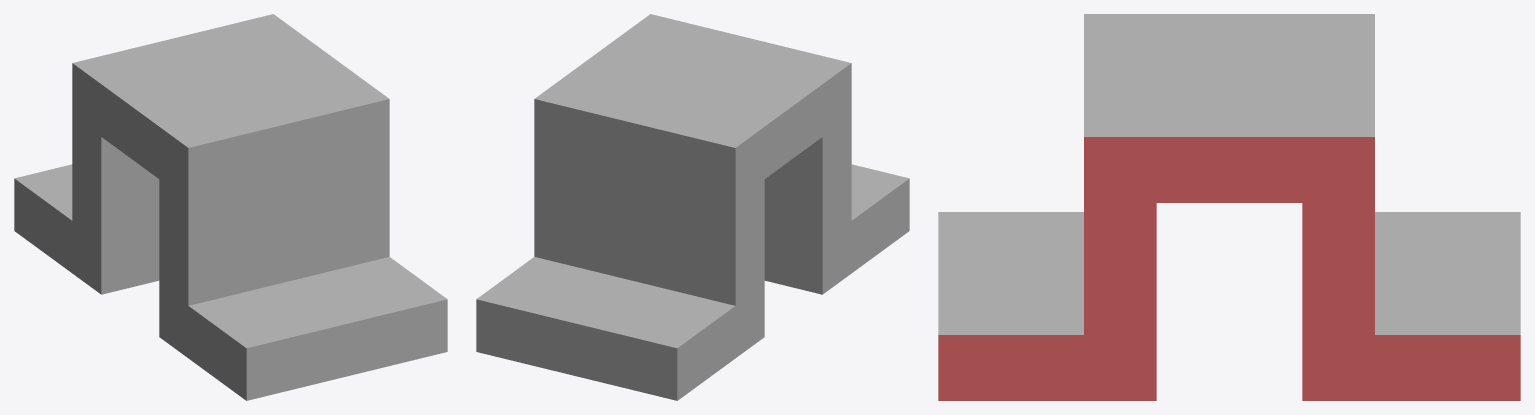
3 views of the same model, side by side, from view 1: azimuth 30°, elevation 25°; view 2: azimuth 150°, elevation 25°; view 3: azimuth 270°, elevation 25° (orthographic). The views are drawn at different scales.
Visible parts, largest first — view 1: ①.SLDPRT; view 2: ①.SLDPRT; view 3: ①.SLDPRT.
Boxes of the visible parts, left/top/right/bottom form: ①.SLDPRT: left=14, top=14, right=447, bottom=400; ①.SLDPRT: left=476, top=14, right=909, bottom=400; ①.SLDPRT: left=938, top=14, right=1520, bottom=400.
Bounding box in the file's own units: 0.04 × 0.04 × 0.08.
